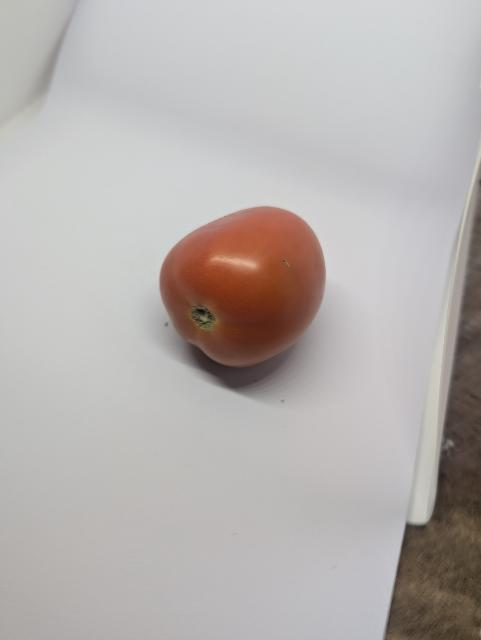red: (147, 199, 347, 386)
